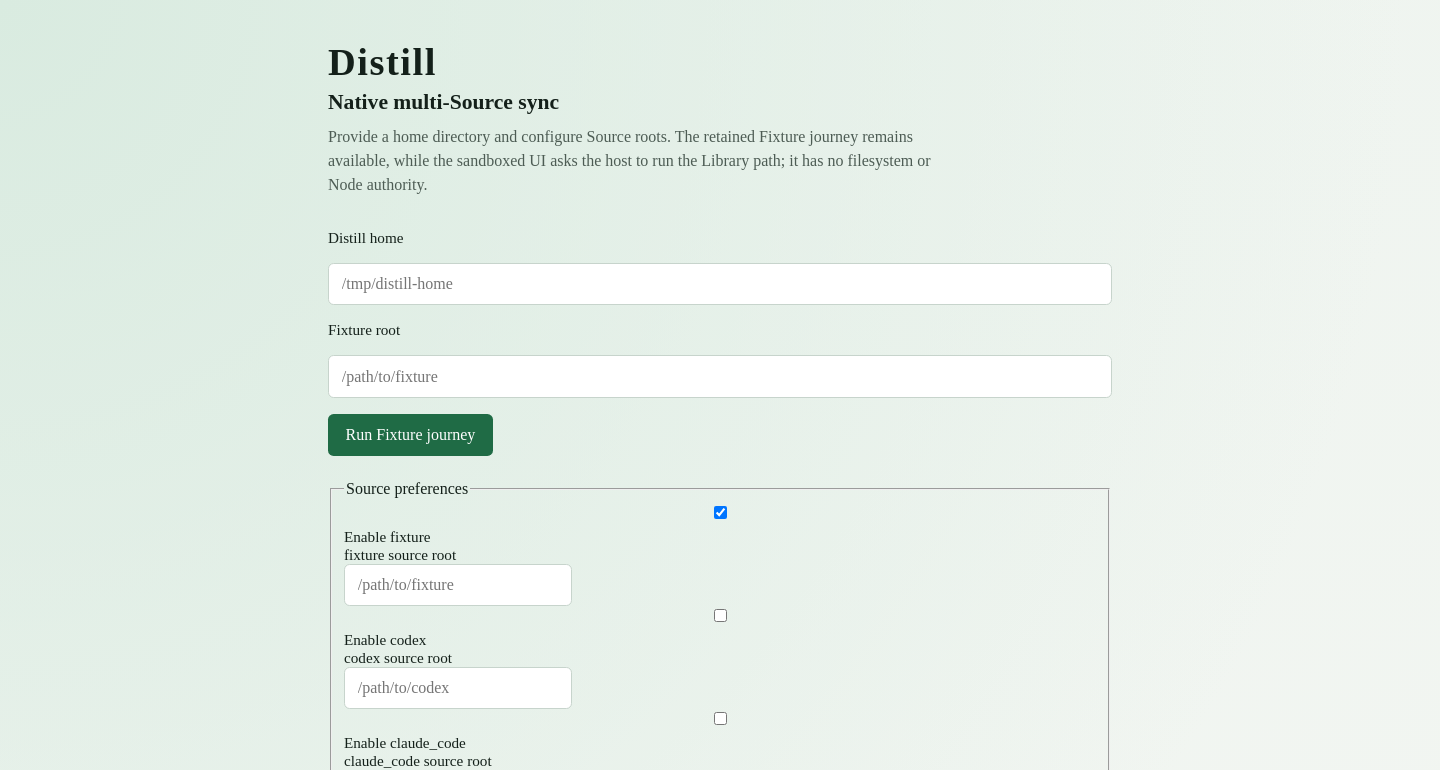
Test: first-run Fixture UI › renders typed error state from the bridge
Type "/tmp/home" into the field labelled "Distill home" at (720, 284), box 328,263 -> 1112,305
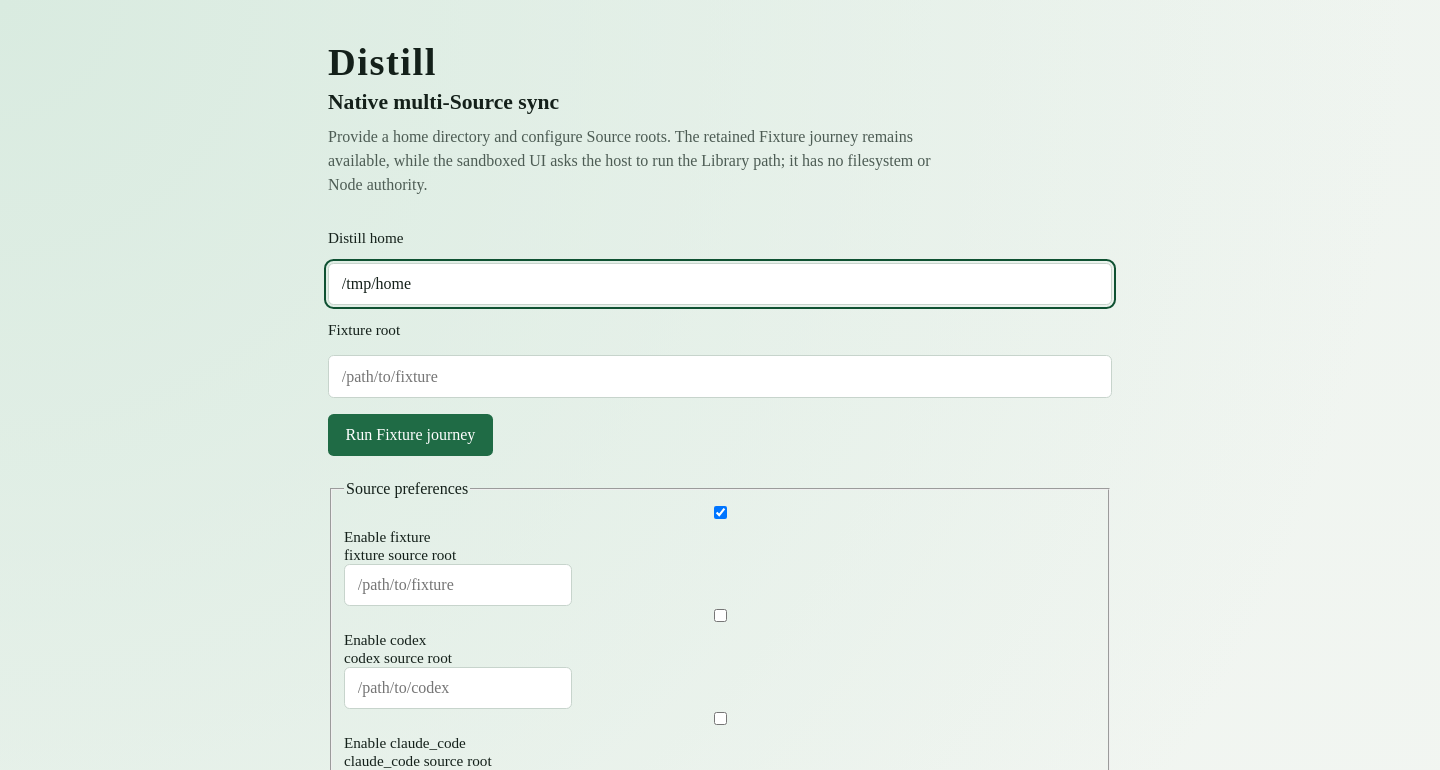
Type "/tmp/fixture" into the field labelled "Fixture root" at (720, 377), box 328,355 -> 1112,398
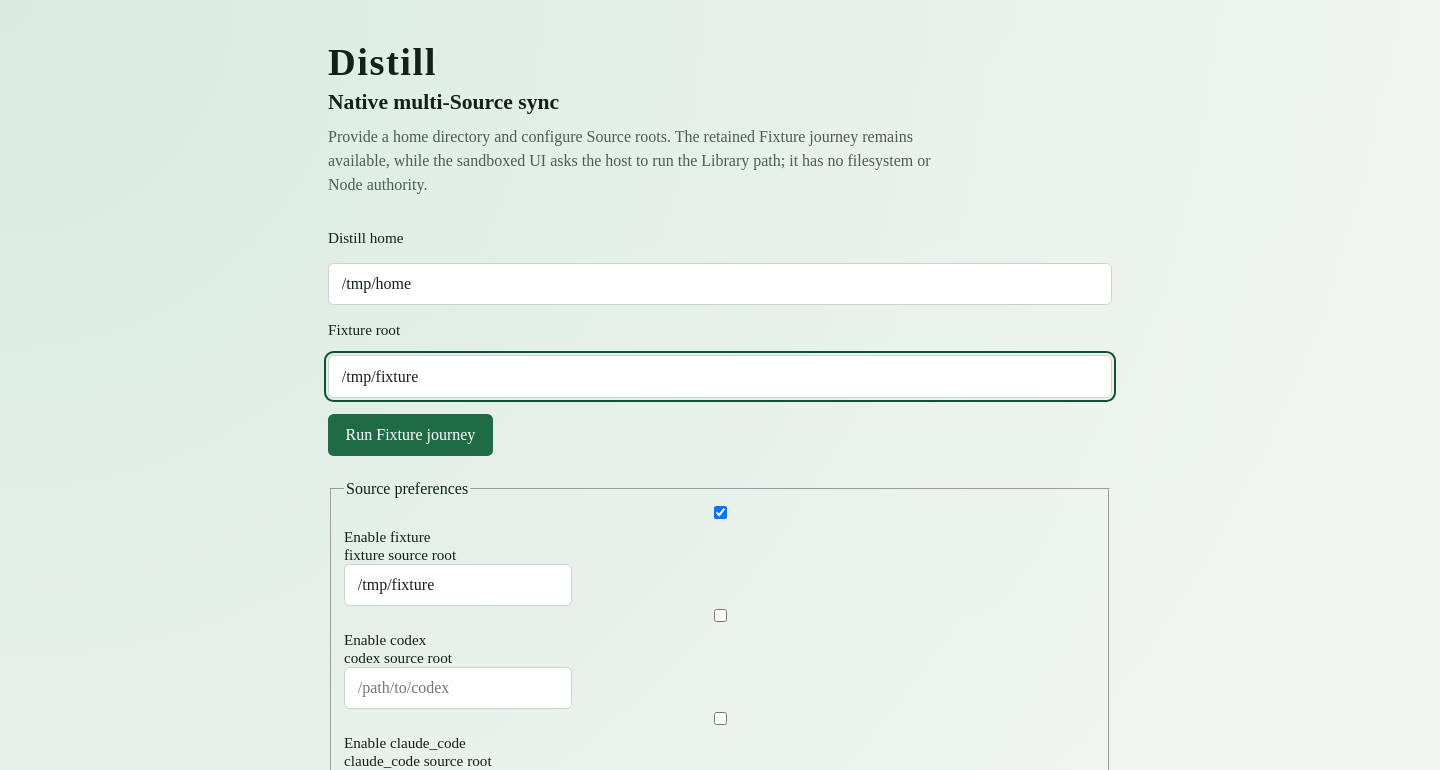
Click the button "Run Fixture journey" at (410, 435), box 328,414 -> 493,456
(page scrolled)
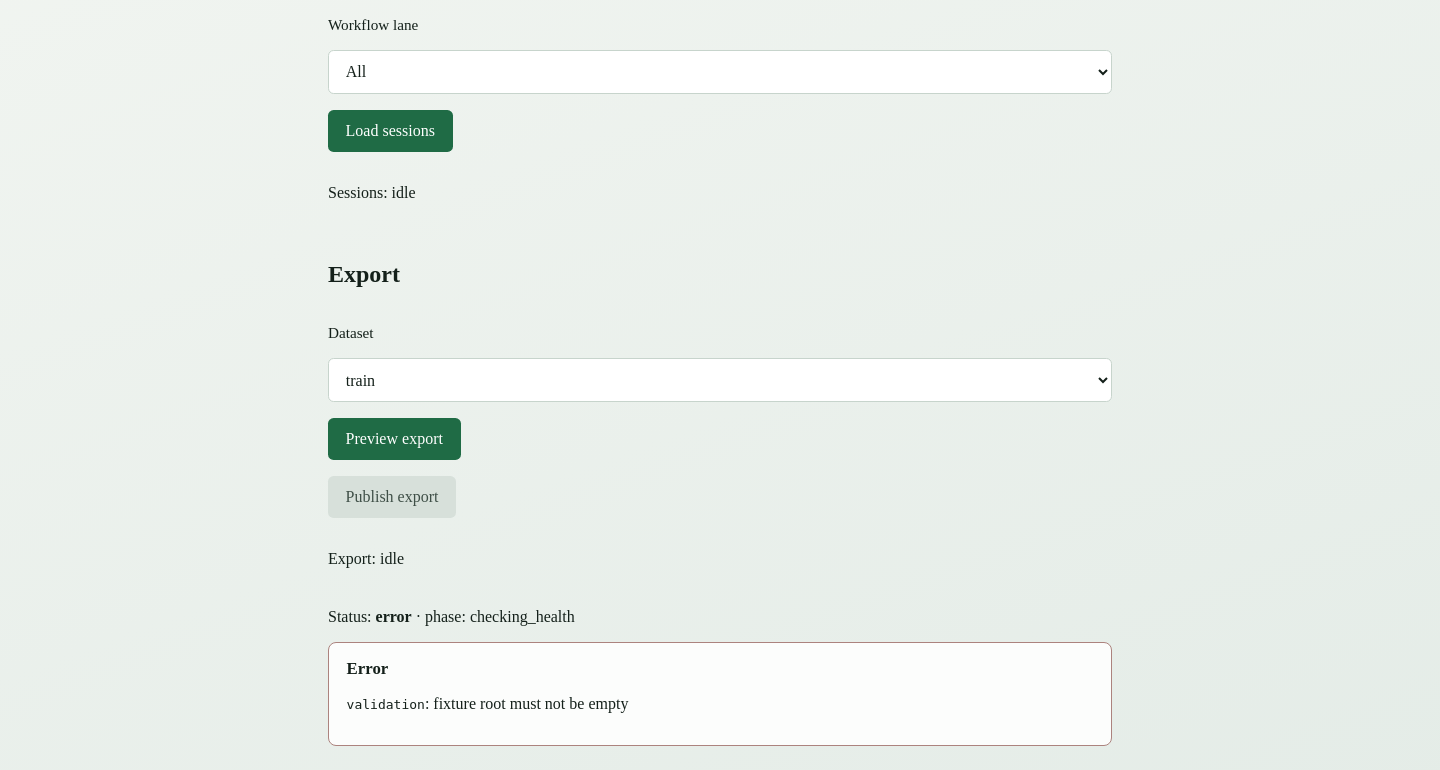
Expected: the text with test id "status" reads "error", 376,608 -> 412,625
Expected: the message with test id "error-panel" shows "validation", 347,697 -> 425,712
Expected: the message with test id "error-panel" shows "fixture root must not be empty", 433,695 -> 628,712
